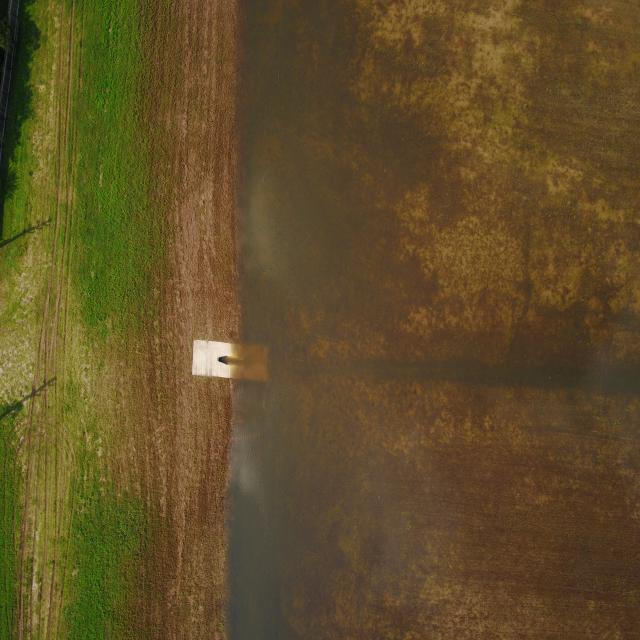fire: (231, 1, 640, 638)
